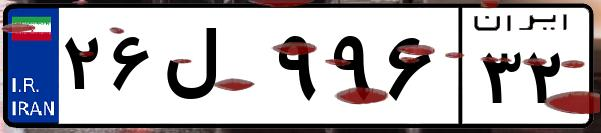2: (57, 26, 110, 100), (525, 38, 570, 115)
3: (475, 38, 525, 113)
6: (385, 28, 445, 110), (110, 28, 158, 98)
9: (270, 28, 330, 110), (330, 28, 385, 110)
ل: (158, 20, 270, 120)
